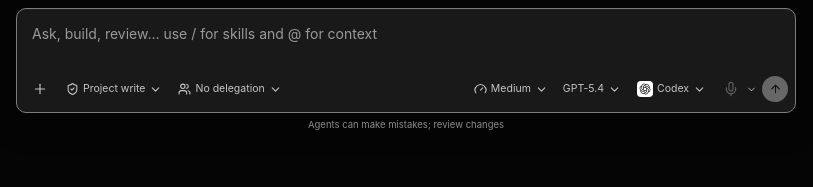
Test: @-mention context suggestions › deduplicates repeated @mentions
Type "compare @README.md with @README.md " into the text box named "Task message" at {"x": 406, "y": 39}, box [17, 9, 795, 69]
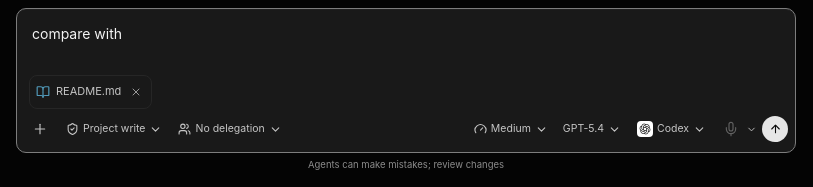
expect the text box named "Task message" holds "compare with ": met, box [17, 9, 795, 69]
expect the number of buttons named "Remove README.md" is 1: met, box [127, 83, 145, 101]
